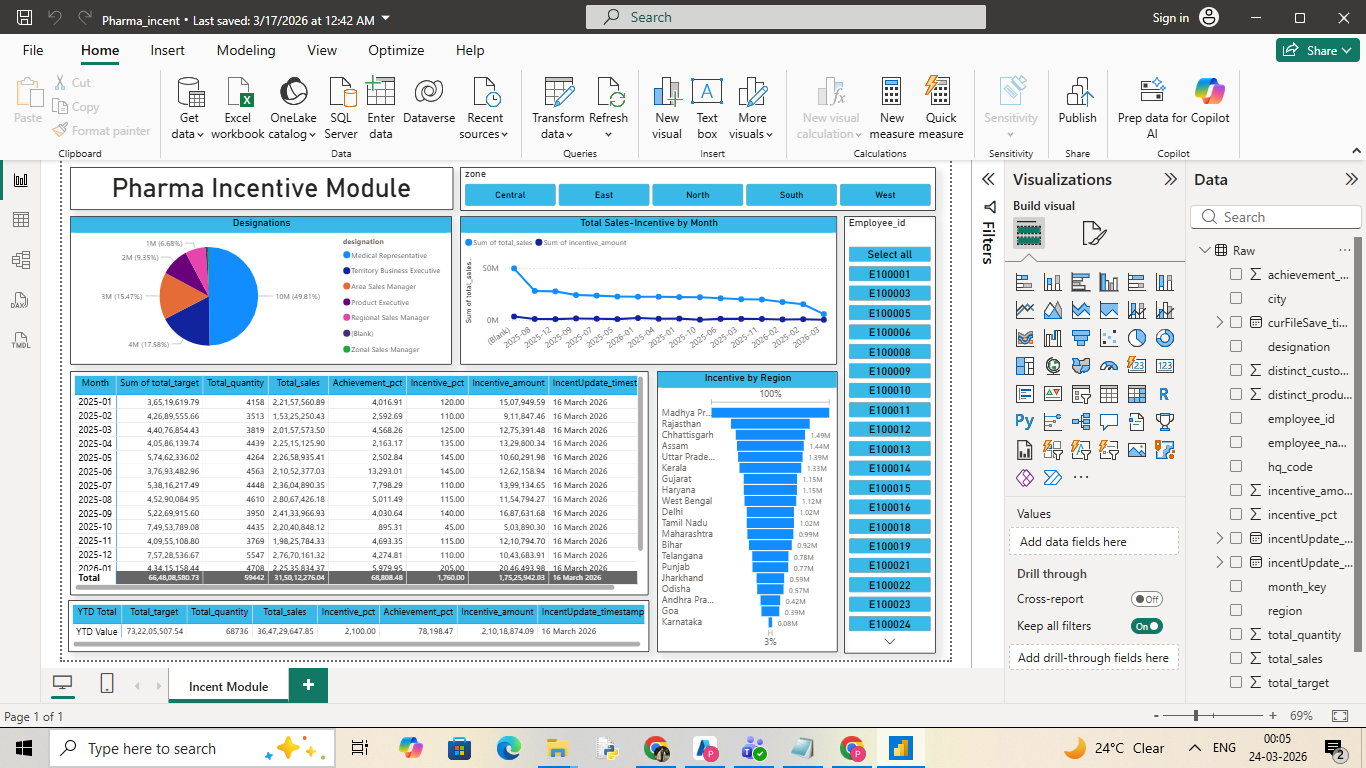

The page's visual inventory and layout, read from the dashboard file:
{"tool":"powerbi","page":{"name":"Incent Module","canvas":[1280,720],"ordinal":0},"visuals":[{"type":"advancedSlicerVisual","fields":{"Values":["Raw.zone"]},"box":[573.3,10,685,63.3],"z":0},{"type":"pivotTable","fields":{"Rows":["Raw.month_key"],"Values":["Sum(Raw.total_target)","Sum(Raw.total_quantity)","Sum(Raw.total_sales)","Sum(Raw.achievement_pct)","Sum(Raw.incentive_pct)","Sum(Raw.incentive_amount)","Min(Raw.incentUpdate_timestamp)"]},"box":[11.7,303.3,833.3,323.3],"z":1000},{"type":"pieChart","title":"Designations","fields":{"Category":["Raw.designation"],"Y":["Sum(Raw.incentive_amount)"]},"box":[11.4,80,550,214.3],"z":2000},{"type":"lineChart","title":"Total Sales-Incentive by Month","fields":{"Category":["Raw.month_key"],"Y":["Sum(Raw.total_sales)","Sum(Raw.incentive_amount)"]},"box":[572.9,80,542.9,214.3],"z":3000},{"type":"pivotTable","fields":{"Rows":["Raw.YTD Total"],"Values":["Sum(Raw.total_target)","Sum(Raw.total_quantity)","Sum(Raw.total_sales)","Sum(Raw.incentive_pct)","Sum(Raw.achievement_pct)","Sum(Raw.incentive_amount)","Min(Raw.incentUpdate_timestamp)"]},"box":[8.3,633.3,836.7,75],"z":4000},{"type":"advancedSlicerVisual","title":"Employee_id","fields":{"Values":["Raw.employee_id"]},"box":[1126,80,132,630],"z":5000},{"type":"textbox","box":[11.7,10,551.7,61.7],"z":6000},{"type":"funnel","title":"Incentive by Region","fields":{"Category":["Raw.region"],"Y":["Sum(Raw.incentive_amount)"]},"box":[856.7,303.3,260,405],"z":7000}]}

Visuals, with their boxes on the page's 1280x720 design canvas (x1, y1, x2, y2). These are canvas units, not pixel positions in the 1366x768 screenshot, which may show the page scaled, cropped or inside an application window:
advancedSlicerVisual - Raw.zone: <box>573,10,1258,73</box>
pivotTable - Raw.month_key x Sum(Raw.total_target): <box>12,303,845,627</box>
"Designations" pieChart: <box>11,80,561,294</box>
"Total Sales-Incentive by Month" lineChart: <box>573,80,1116,294</box>
pivotTable - Raw.YTD Total x Sum(Raw.total_target): <box>8,633,845,708</box>
"Employee_id" advancedSlicerVisual: <box>1126,80,1258,710</box>
textbox: <box>12,10,563,72</box>
"Incentive by Region" funnel: <box>857,303,1117,708</box>
